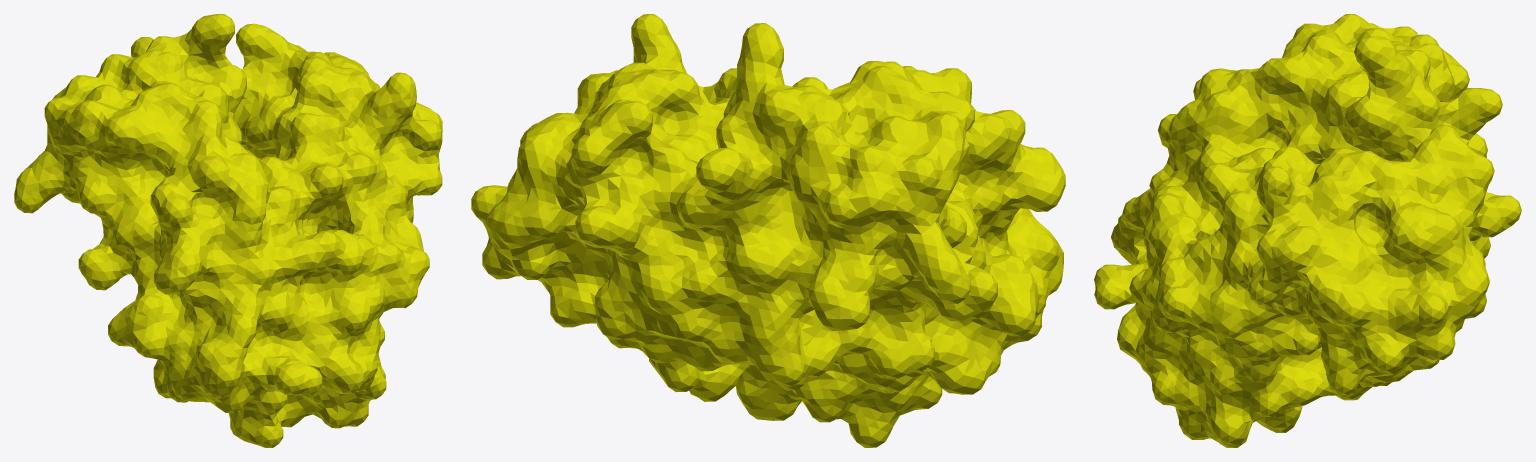
File: 1mbn__surface__rainbow.glb
3 renders of one model, left to right at view 1: azimuth 30°, elevation 25°; view 2: azimuth 150°, elevation 25°; view 3: azimuth 270°, elevation 25°, orthographic. The views are drawn at different scales.
Parts seen in each view (by area): view 1: Renderer Node; view 2: Renderer Node; view 3: Renderer Node.
Part boxes in pixels (x1,y1,x2,y2): Renderer Node: (14, 14, 442, 447); Renderer Node: (471, 14, 1065, 447); Renderer Node: (1094, 14, 1521, 447).
Size of the model in its own units: 45.95 by 42.15 by 41.97.
